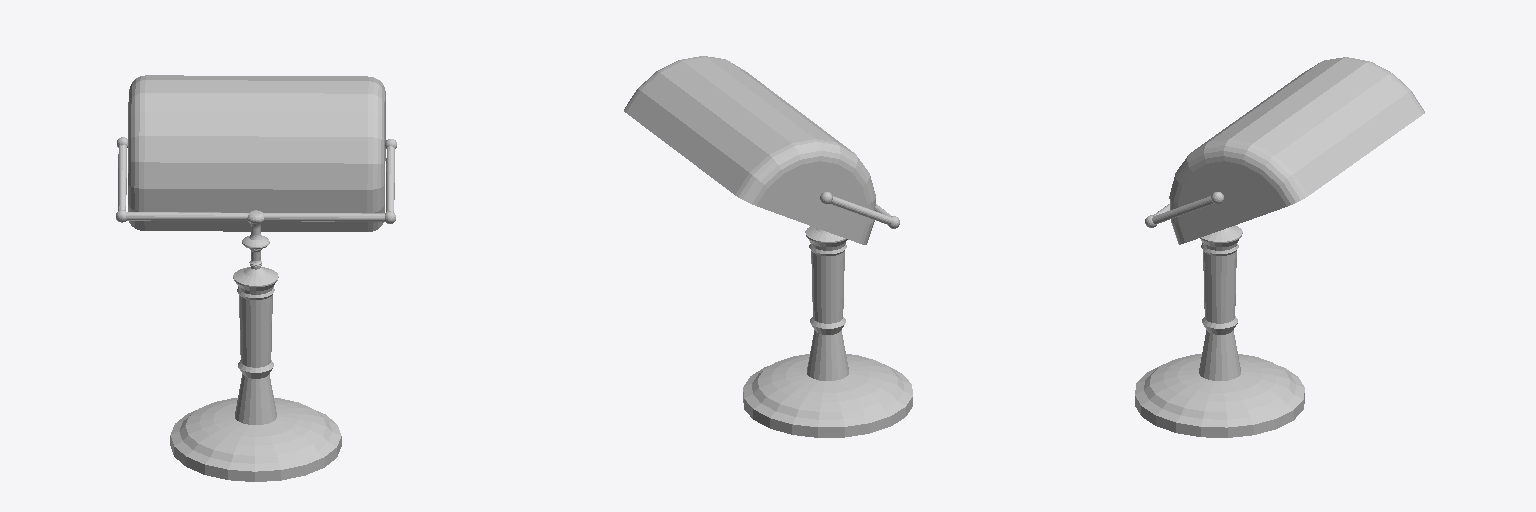
File: phone.obj
3 renders of one model, left to right at view 1: azimuth 30°, elevation 25°; view 2: azimuth 150°, elevation 25°; view 3: azimuth 270°, elevation 25°, orthographic.
Parts seen in each view (by area): view 1: lamp1:pCylinder3; view 2: lamp1:pCylinder3; view 3: lamp1:pCylinder3.
Part boxes in pixels (bbox=[...]): lamp1:pCylinder3: bbox=[116, 75, 396, 481]; lamp1:pCylinder3: bbox=[624, 56, 912, 437]; lamp1:pCylinder3: bbox=[1135, 57, 1424, 437].
Size of the model in its own units: 2.92 by 3.31 by 2.71.